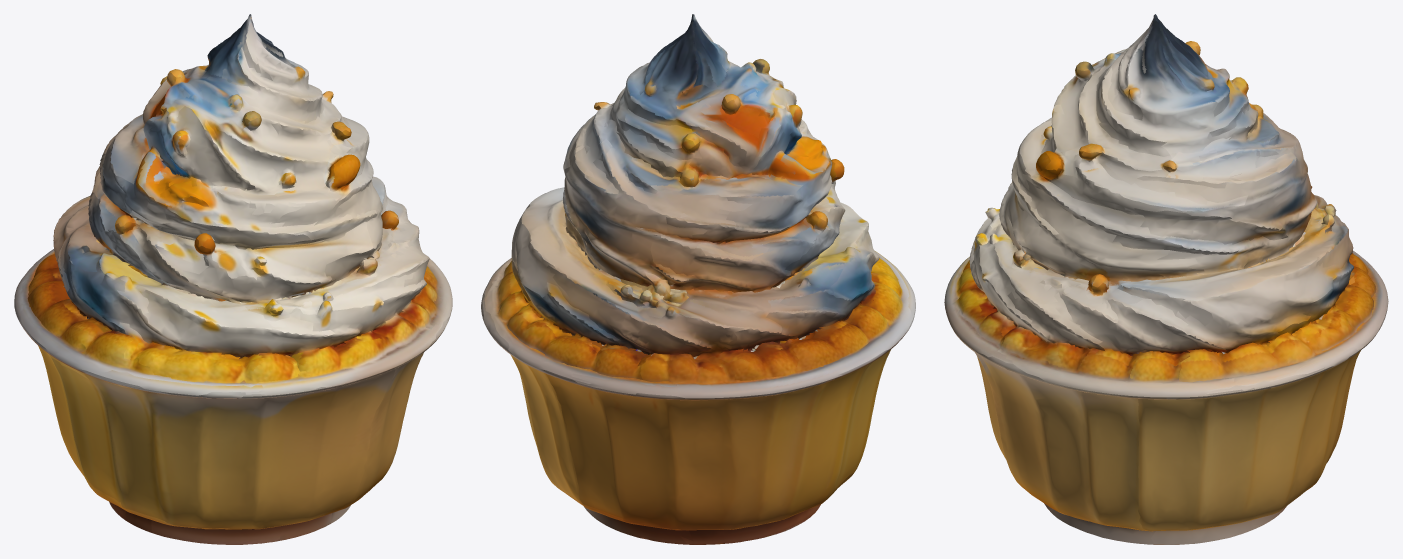
Rendered from hoip.fbx.
The picture shows the model from 3 angles, left to right: view 1: azimuth 30°, elevation 25°; view 2: azimuth 150°, elevation 25°; view 3: azimuth 270°, elevation 25°; orthographic projection. The views are drawn at different scales.
Visible parts, largest first — view 1: tmpq1e8ens6.ply; view 2: tmpq1e8ens6.ply; view 3: tmpq1e8ens6.ply.
Boxes of the visible parts, <box> form: tmpq1e8ens6.ply: <box>14,14,452,544</box>; tmpq1e8ens6.ply: <box>481,14,915,544</box>; tmpq1e8ens6.ply: <box>944,14,1388,544</box>.
Size of the model in its own units: 165 by 199 by 165.
Materials: 1 (1 with a texture image).
